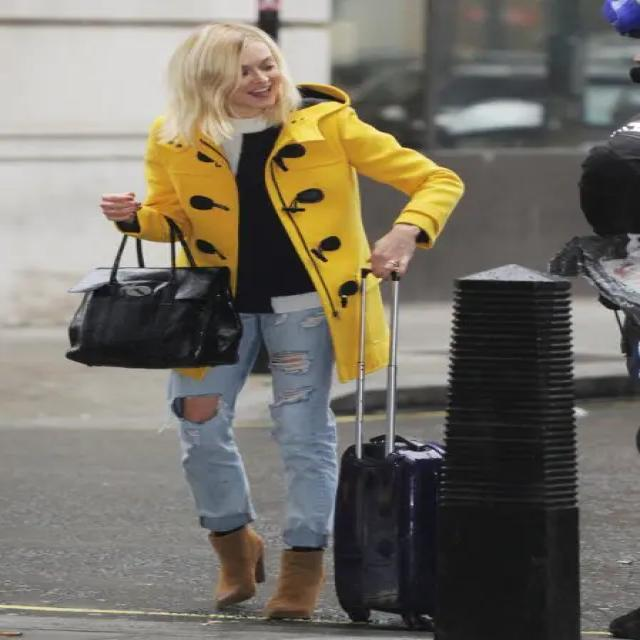coat: (115, 78, 465, 387)
sweater: (207, 117, 330, 313)
trousers: (166, 304, 339, 552)
